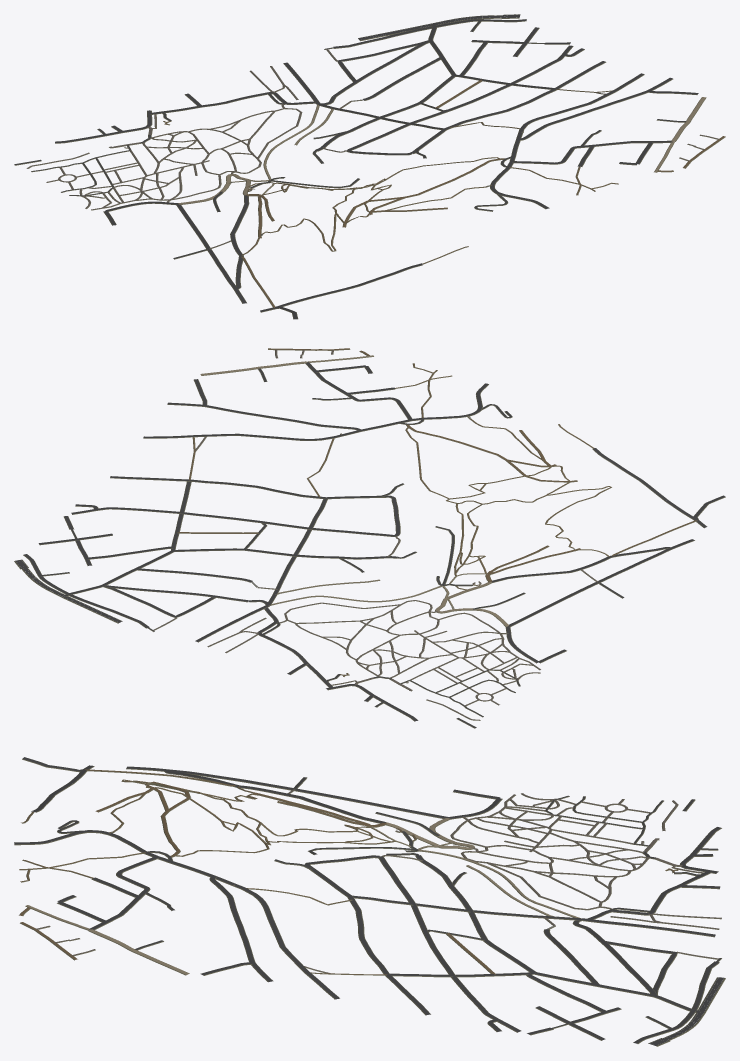
3 renders of one model, top to bottom at view 1: azimuth 30°, elevation 25°; view 2: azimuth 150°, elevation 25°; view 3: azimuth 270°, elevation 25°, orthographic. The views are drawn at different scales.
Visible parts, largest first — view 1: roads; view 2: roads; view 3: roads.
Boxes of the visible parts, left/top/right/bottom form: roads: left=14, top=14, right=725, bottom=319; roads: left=14, top=348, right=725, bottom=728; roads: left=14, top=757, right=725, bottom=1046.
Bounding box in the file's own units: 812 × 156 × 816.
